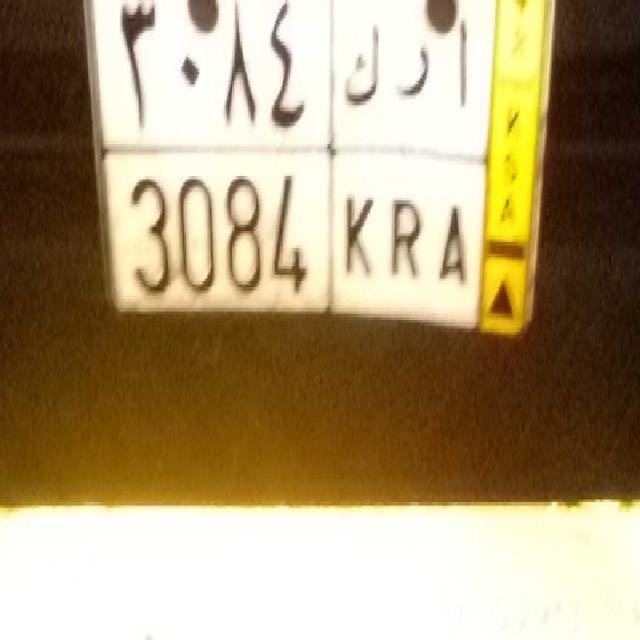license_plate: (109, 144, 478, 326)
